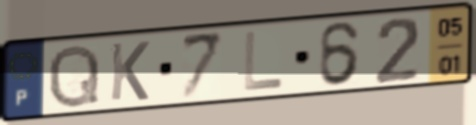2: (372, 14, 425, 86)
6: (317, 19, 361, 89)
7: (180, 28, 226, 103)
K: (108, 39, 153, 103)
L: (241, 29, 287, 95)
Q: (45, 42, 103, 111)
